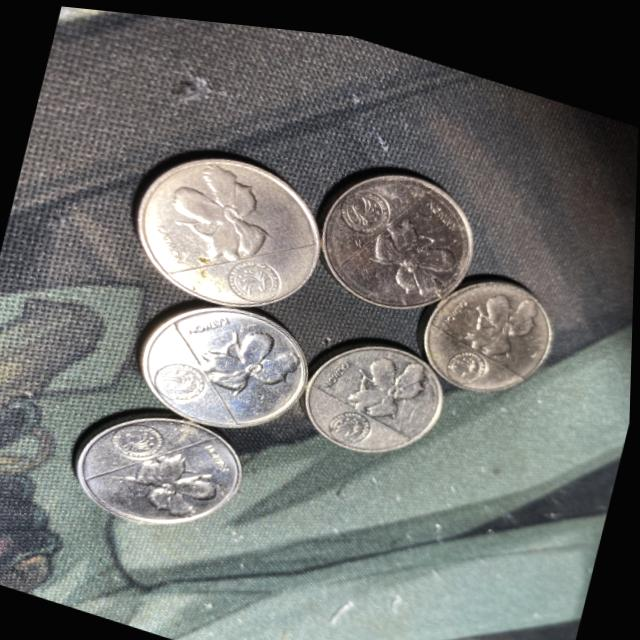25Cent_New_Back: (133, 130, 299, 279), (353, 191, 474, 319), (429, 253, 559, 364), (193, 298, 309, 414), (111, 425, 227, 533), (338, 336, 447, 435)
